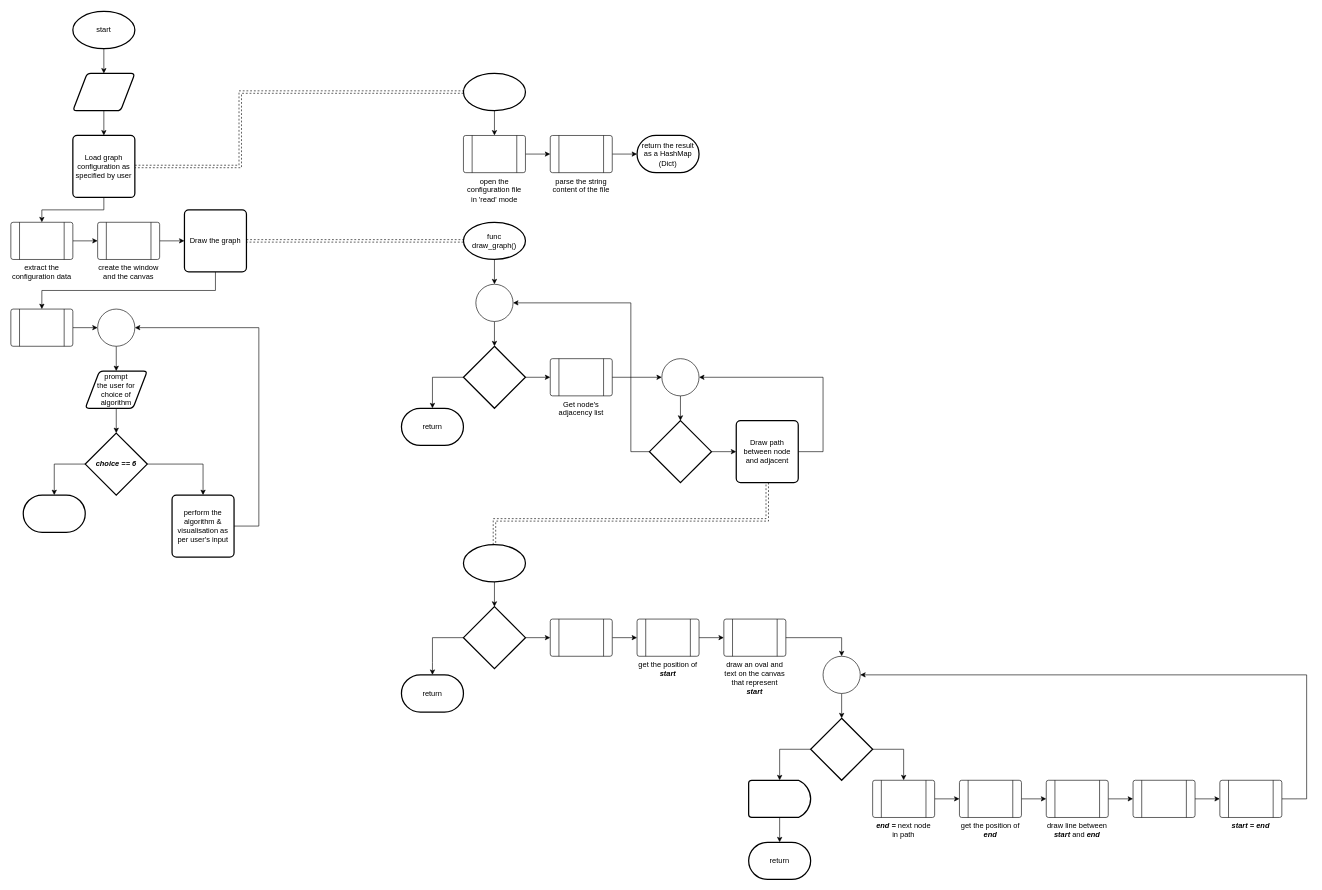
The diagram is 1322 pixels wide and 890 high, and some of its shapes have lost their labels. Here are the shapes that lost their labels. From the top down, the box of each, then its label:
(72, 73, 135, 111): Prompt the user for input
(463, 73, 526, 111): func read_json_file()
(10, 308, 73, 346): add a start button to the window
(463, 345, 526, 409): graph has next node
(649, 420, 712, 483): list has next node
(22, 494, 86, 533): end
(463, 544, 526, 582): func draw_path()
(463, 606, 526, 669): path is not empty
(550, 618, 612, 656): start = path[0]
(810, 717, 873, 781): path[1:] has next node
(748, 779, 811, 818): delay 300 milliseconds
(1132, 780, 1195, 817): draw an oval and text on the canvas that represent end
